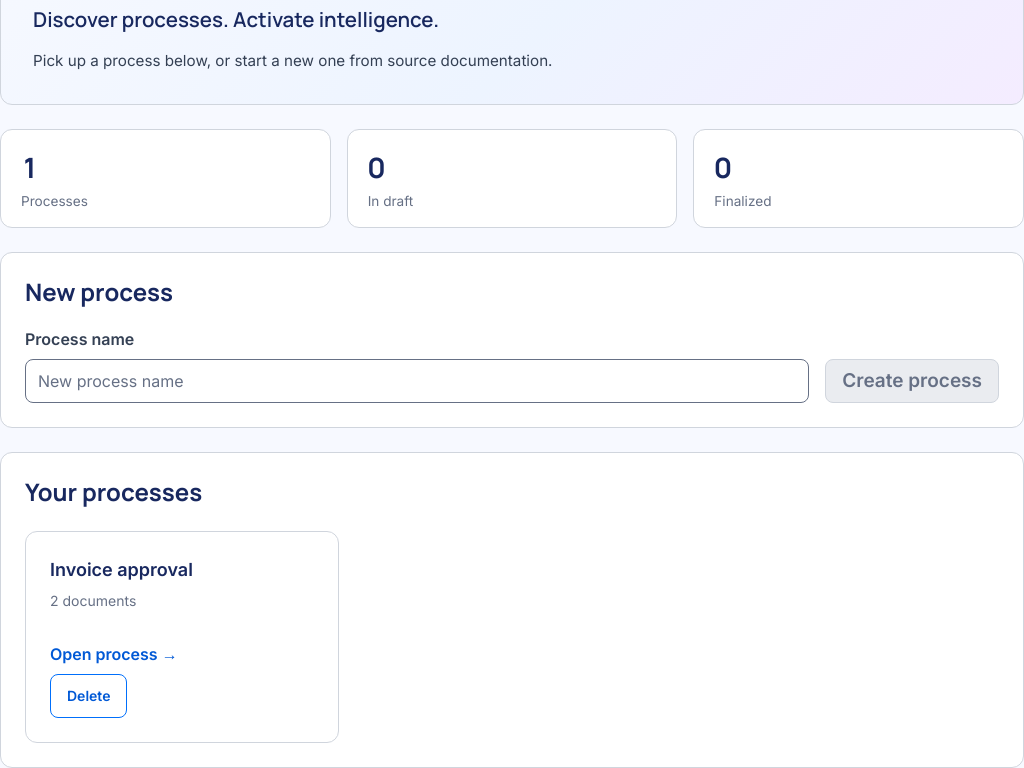
Test: Deleting a process › deletes the process on confirm and refreshes the list
The image size is (1024, 768).
(page scrolled)
expect the text "Invoice approval" is shown: met, box [50,559,193,580]
Click the button "Delete" at (89, 696), box [50,674,127,718]
(page scrolled)
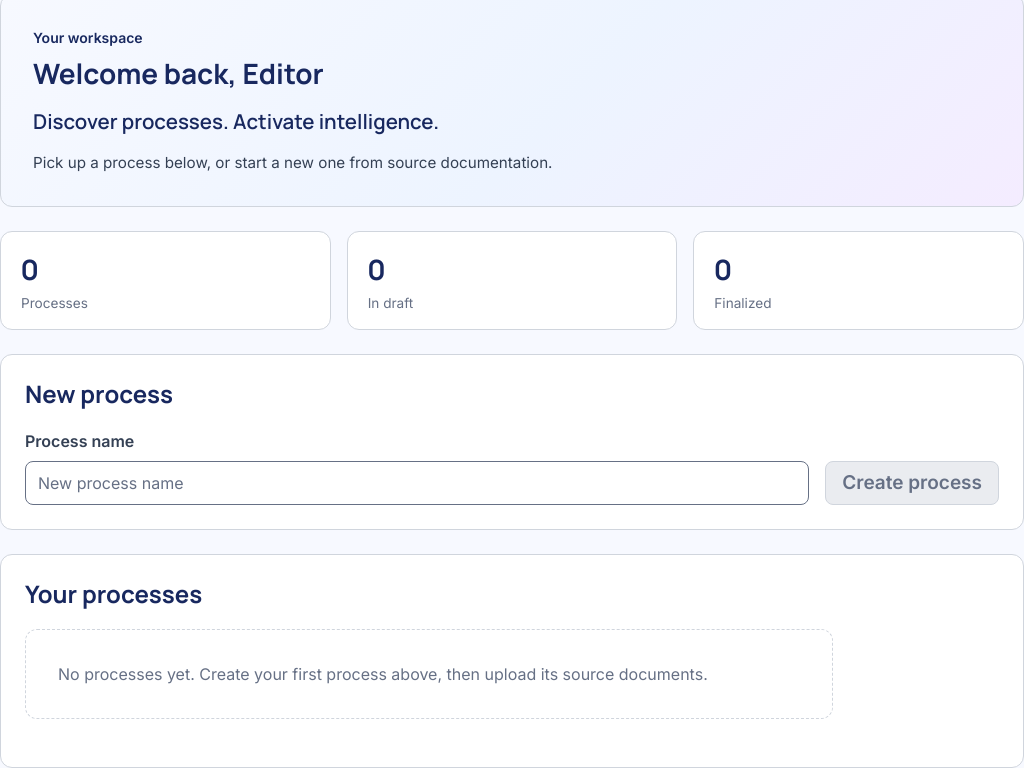
expect the link "Invoice approval" is gone: met
